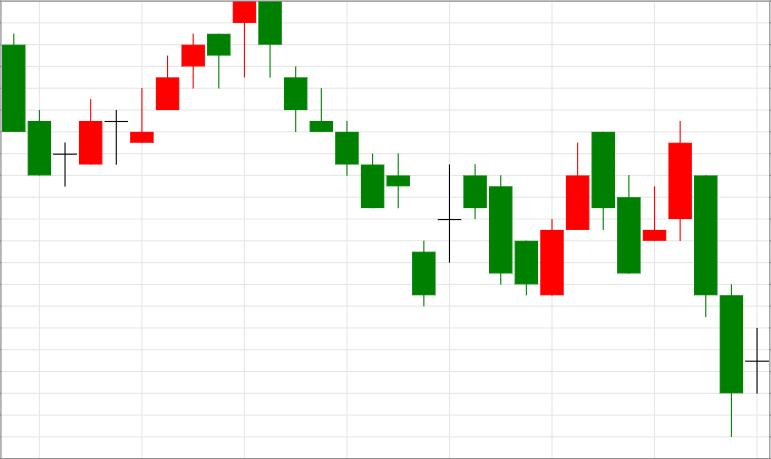bullish_engulfing_rise: (463, 165, 563, 295)
hanging_man_fall: (80, 2, 255, 166)
